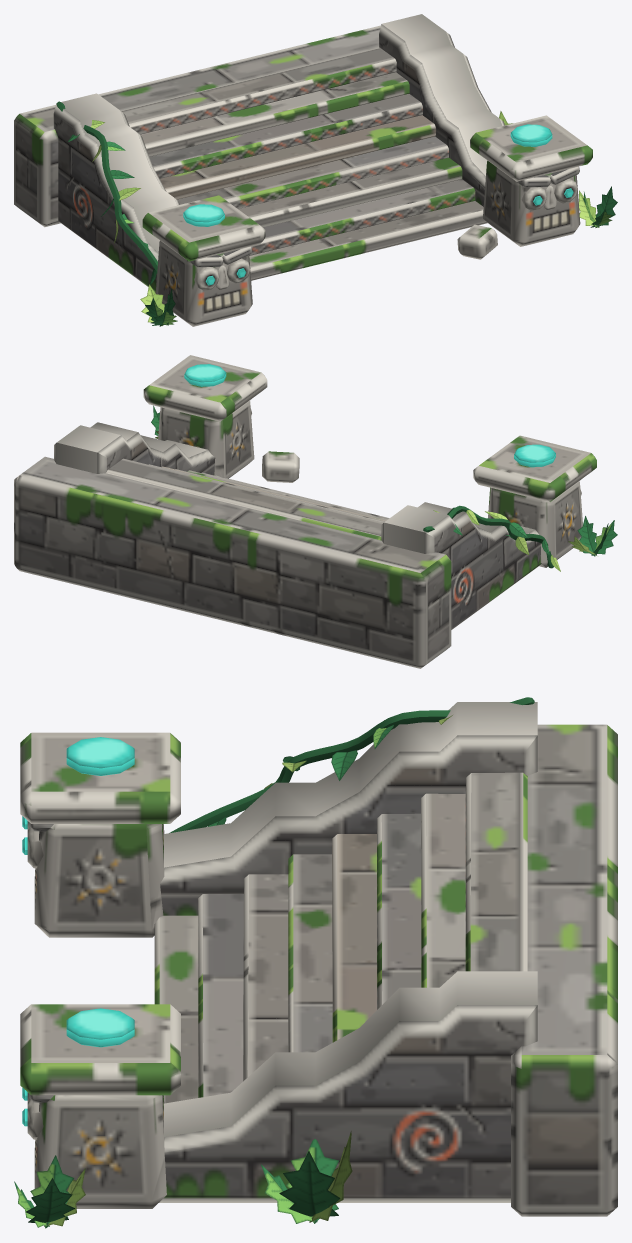
The model's file is gate_stair.glb.
3 views of the same model, one above another, from view 1: azimuth 30°, elevation 25°; view 2: azimuth 150°, elevation 25°; view 3: azimuth 270°, elevation 25° (orthographic). The views are drawn at different scales.
Parts seen in each view (by area): view 1: gate_stair, gate_stair_glow; view 2: gate_stair, gate_stair_glow; view 3: gate_stair, gate_stair_glow.
Part boxes in pixels (box(x1,y1,x2,y2)): gate_stair: box(14, 14, 617, 326); gate_stair_glow: box(183, 124, 573, 285); gate_stair: box(14, 355, 617, 668); gate_stair_glow: box(184, 364, 555, 467); gate_stair: box(14, 697, 617, 1228); gate_stair_glow: box(22, 737, 134, 1126).
Bounding box in the file's own units: 10.11 × 2.54 × 6.77.
Materials: 2 (2 with a texture image).
